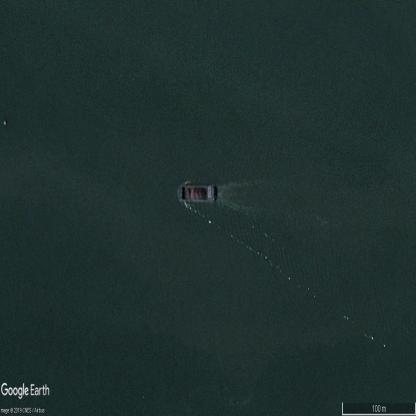ship: (177, 177, 219, 205)
